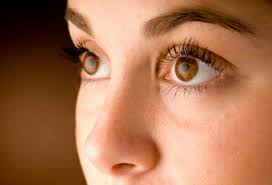pupil: (175, 58, 198, 82), (82, 54, 99, 76)
